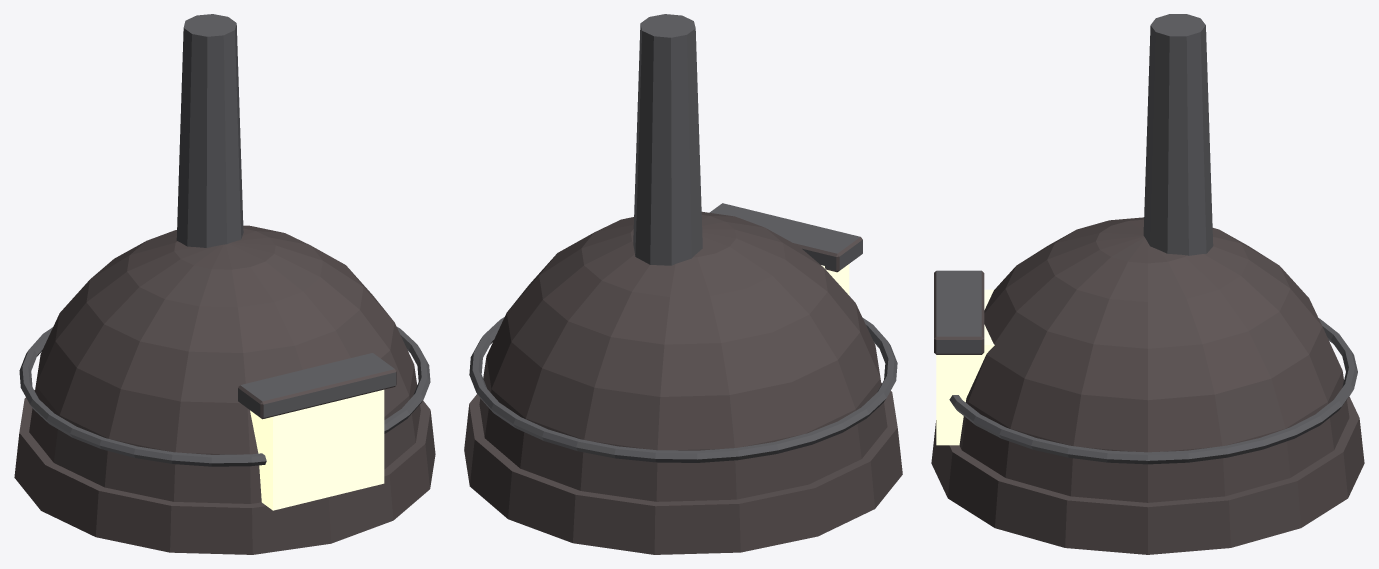
File: Furnace.fbx
3 renders of one model, left to right at view 1: azimuth 30°, elevation 25°; view 2: azimuth 150°, elevation 25°; view 3: azimuth 270°, elevation 25°, orthographic. The views are drawn at different scales.
Visible parts, largest first — view 1: Furnace; view 2: Furnace; view 3: Furnace.
Part boxes in pixels (x1,y1,x2,y2): Furnace: [14, 14, 435, 554]; Furnace: [464, 14, 902, 554]; Furnace: [931, 14, 1364, 554].
Bounding box in the file's own units: 8.6 × 9.6 × 8.6.
